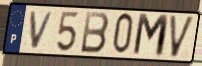0: (111, 11, 136, 58)
5: (56, 10, 80, 53)
B: (79, 10, 111, 56)
M: (131, 12, 171, 60)
V: (168, 14, 197, 60), (29, 11, 56, 51)
